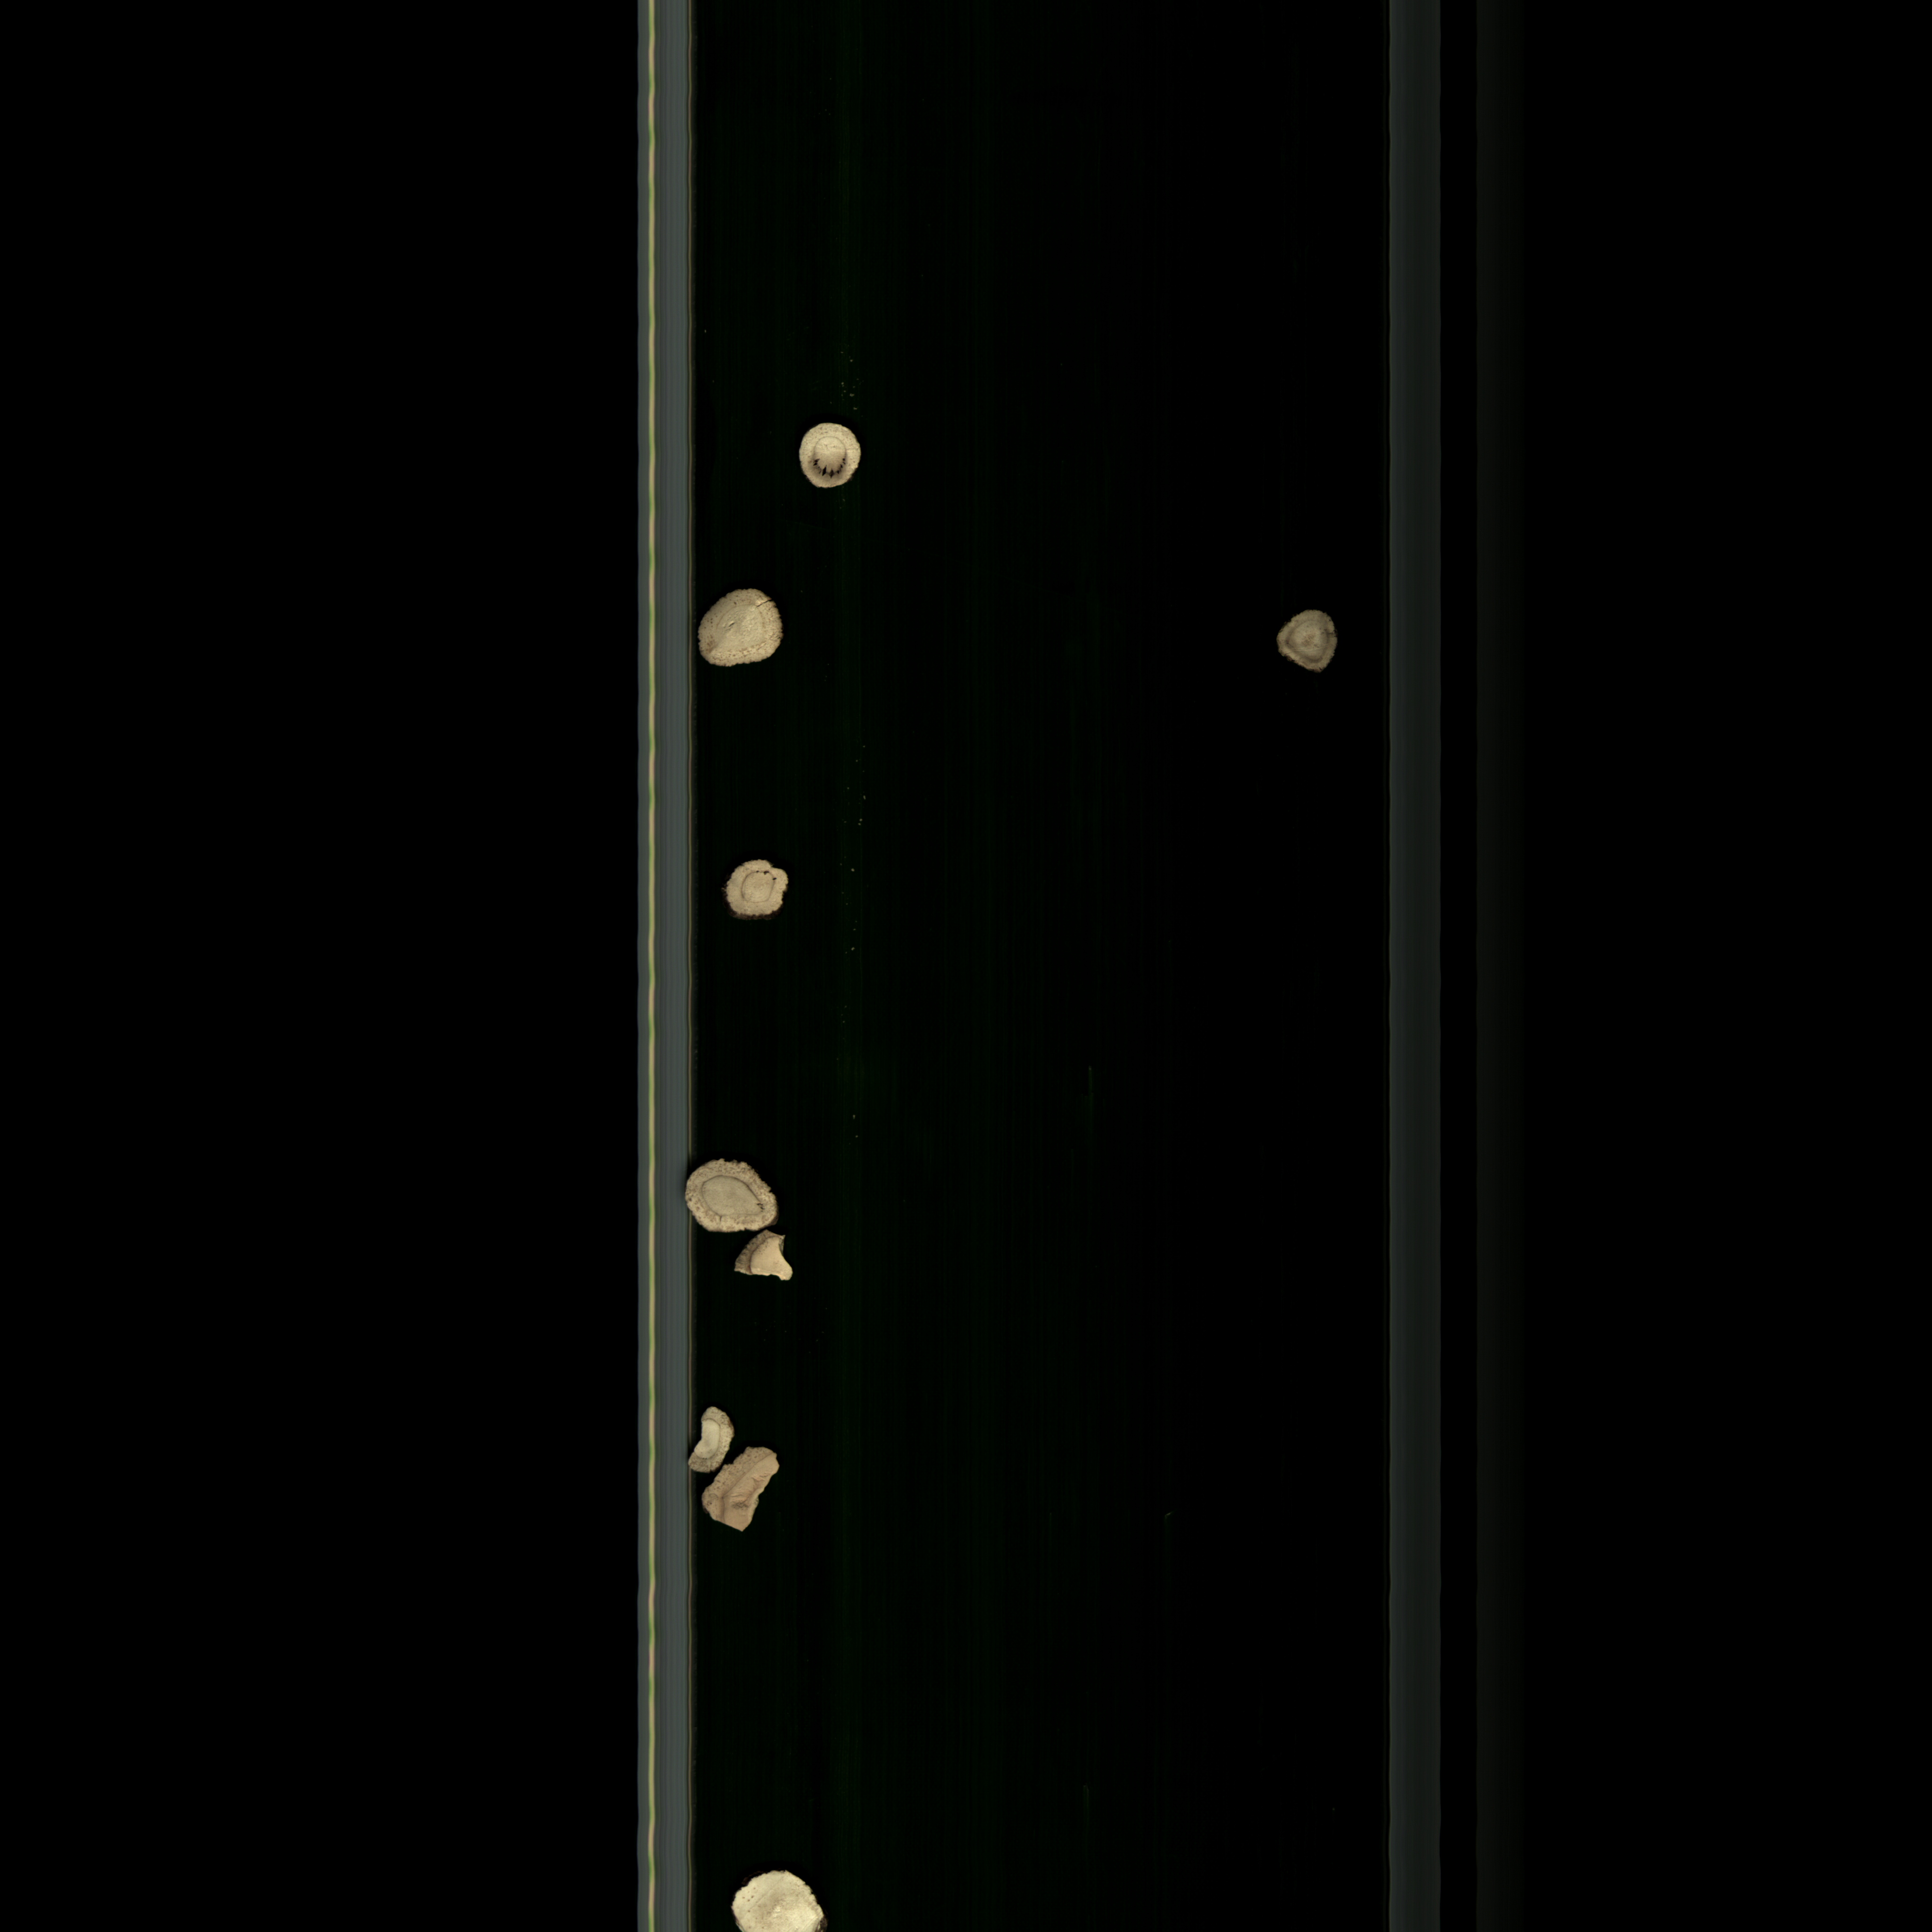debris: (695, 1438, 801, 1545), (718, 1865, 837, 1932)
dreg: (676, 1394, 734, 1486), (724, 1231, 801, 1293)
hole: (789, 409, 878, 515)
moldy: (1260, 600, 1357, 686)
